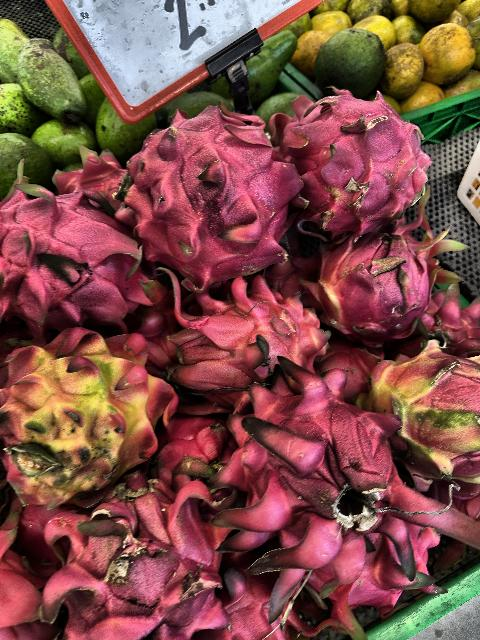buah-naga-belum-matang: (0, 332, 176, 482), (356, 334, 480, 492)
buah-naga-matang: (213, 356, 430, 564), (13, 476, 220, 640), (122, 120, 294, 280), (0, 168, 156, 332), (274, 83, 424, 231), (148, 268, 328, 390), (307, 223, 459, 333)
